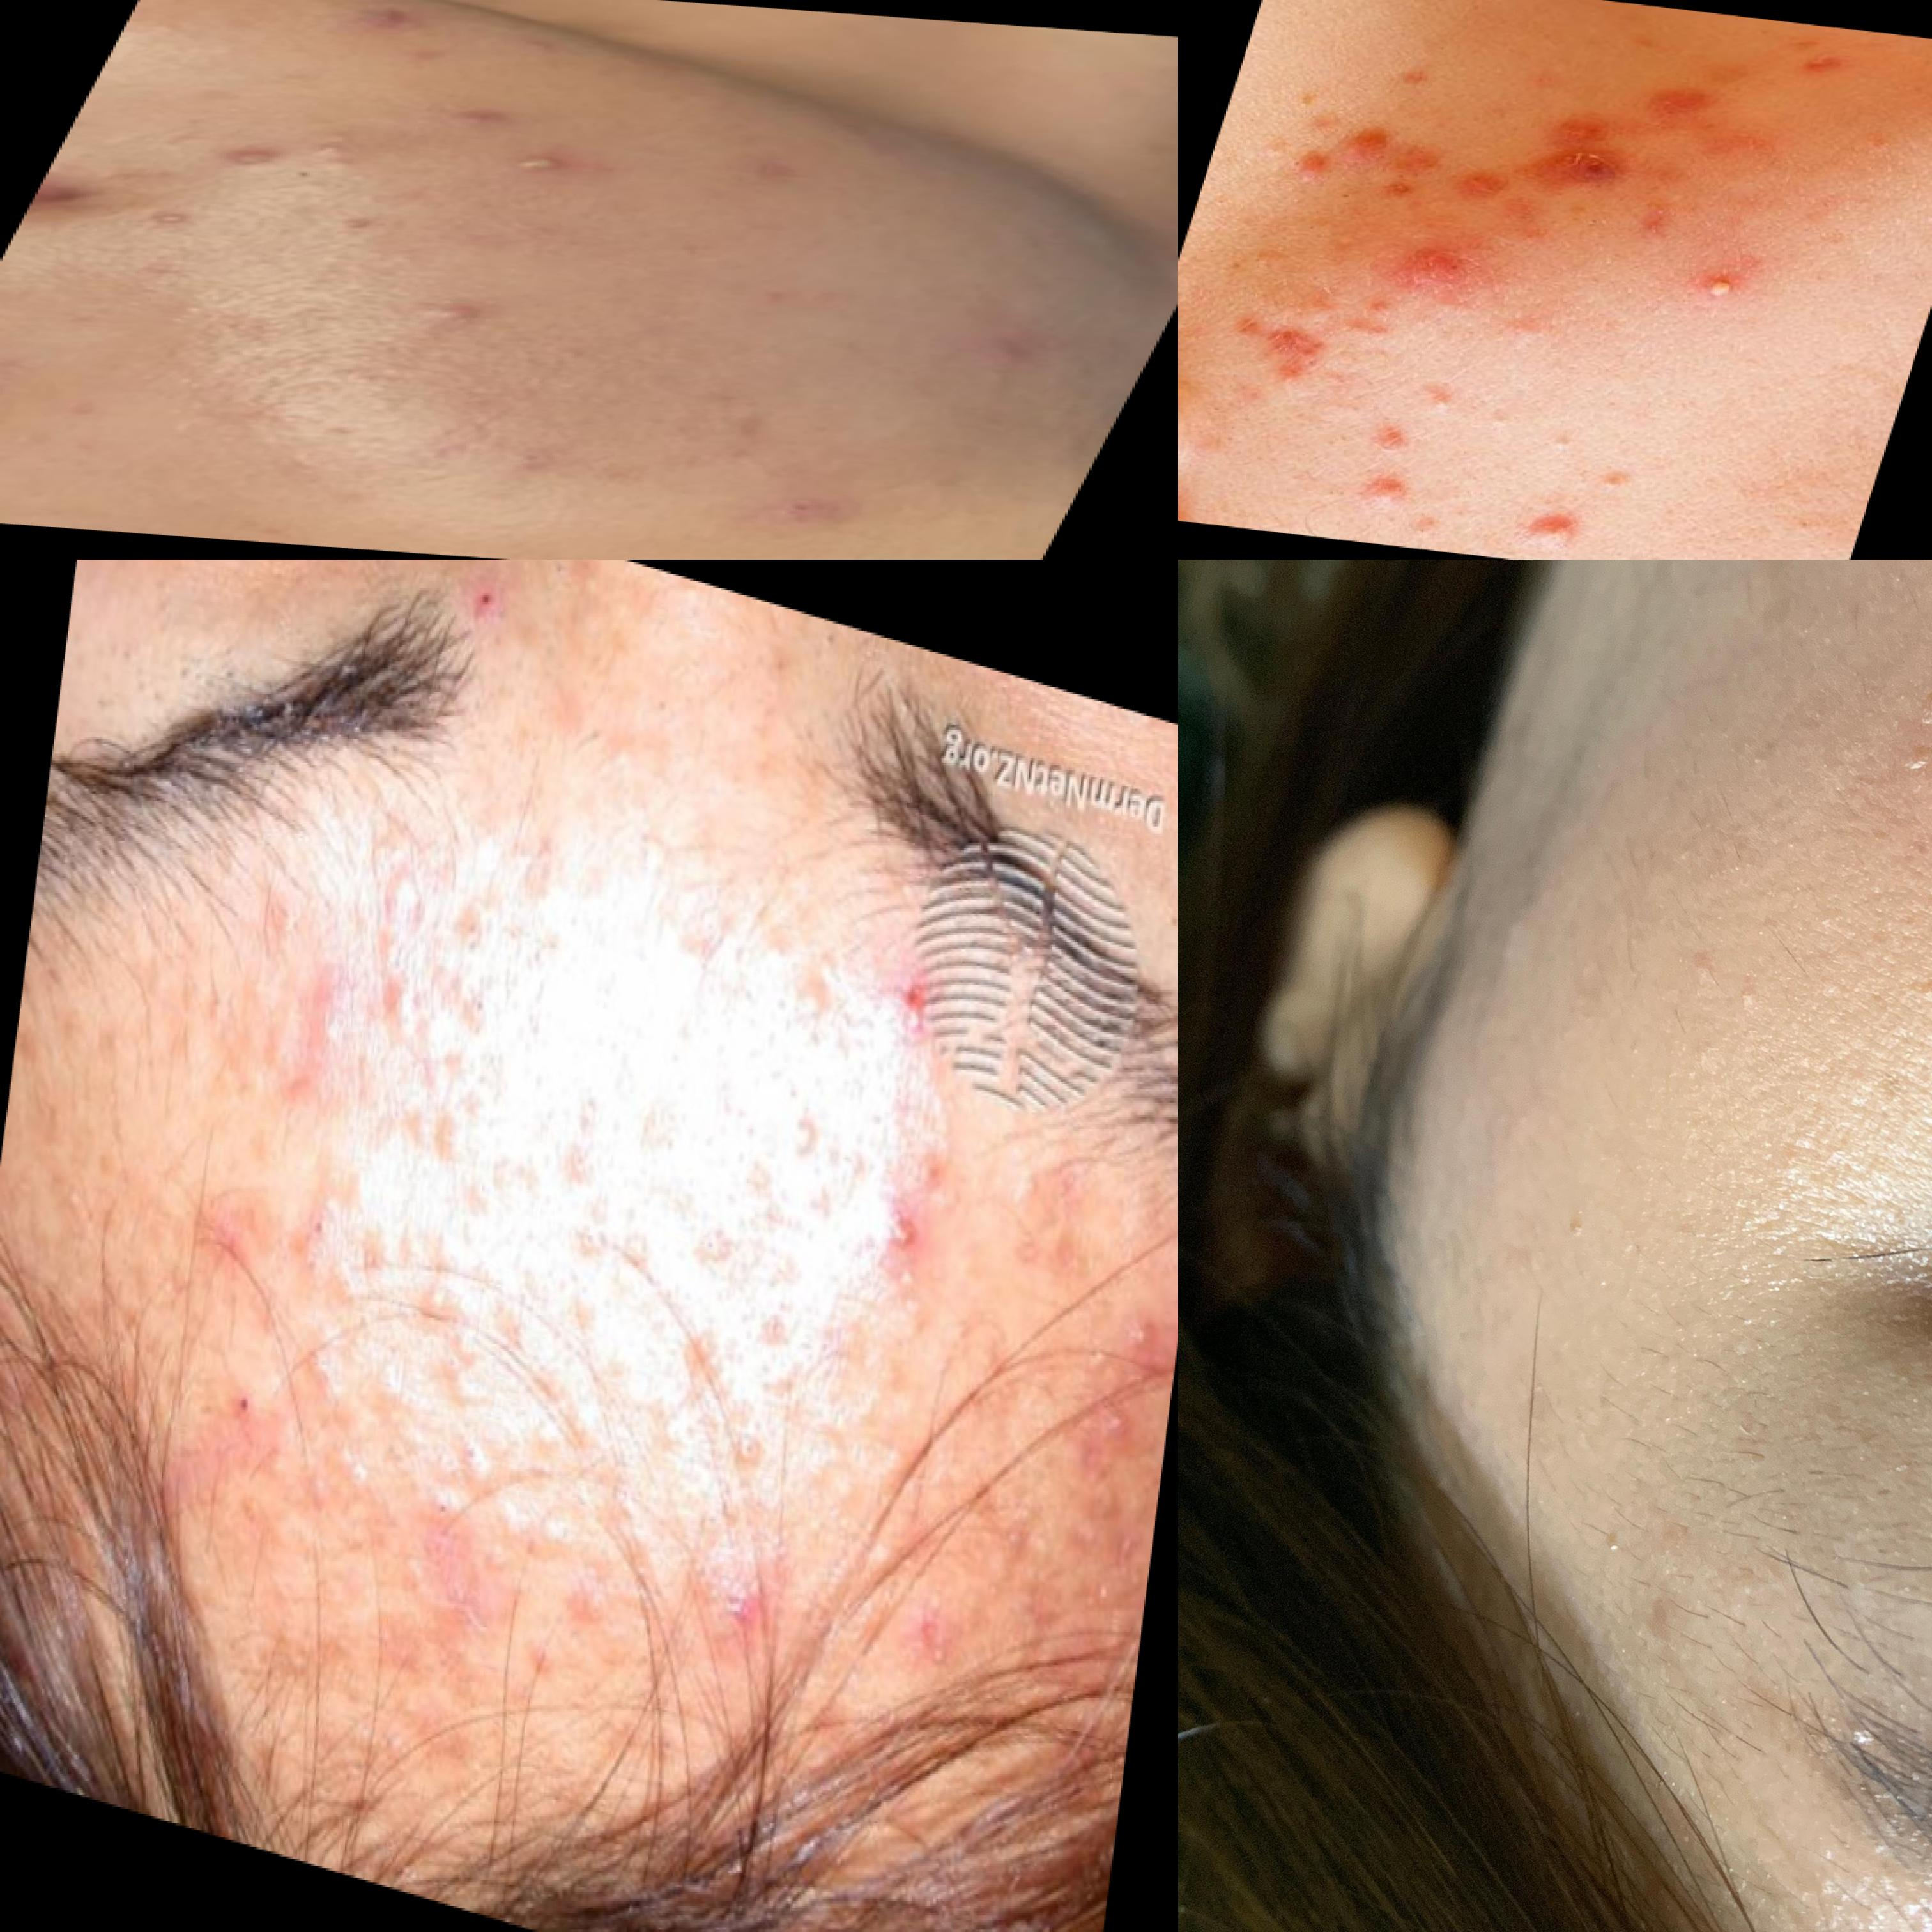blackhead: (669, 1192, 731, 1300), (720, 1384, 775, 1502), (281, 1185, 338, 1284), (568, 1177, 623, 1276), (557, 1079, 610, 1168), (442, 874, 490, 966), (1300, 474, 1369, 522), (453, 975, 499, 1046), (1382, 510, 1445, 550), (1592, 460, 1656, 501), (423, 1474, 462, 1530), (1479, 405, 1525, 437), (1322, 177, 1362, 211), (1288, 207, 1320, 242), (1309, 428, 1350, 449)
papular: (1302, 223, 1516, 310), (897, 301, 1088, 384), (1210, 310, 1359, 395), (1608, 64, 1757, 143), (159, 115, 295, 182), (1529, 136, 1656, 205), (706, 1560, 786, 1670), (1426, 157, 1543, 219), (904, 1587, 971, 1691), (858, 1173, 925, 1276), (403, 83, 547, 131), (294, 984, 357, 1086), (1325, 111, 1398, 165)
purulent: (465, 138, 610, 195), (396, 267, 515, 329), (1672, 265, 1755, 306), (1516, 499, 1580, 550)
syringoma: (1810, 1323, 1932, 1481), (1831, 642, 1932, 832)
whitehead: (978, 1143, 1095, 1293), (269, 117, 402, 186), (901, 1118, 973, 1240), (518, 1474, 600, 1580), (497, 1240, 577, 1341), (761, 1069, 828, 1185), (513, 1382, 584, 1488), (1108, 1269, 1168, 1371), (320, 1422, 382, 1513), (444, 1412, 501, 1507), (1083, 1378, 1143, 1467), (754, 1292, 814, 1371), (418, 1097, 472, 1182), (481, 1129, 534, 1214), (375, 971, 430, 1049), (612, 1215, 667, 1293), (407, 1263, 462, 1336), (559, 1286, 610, 1352), (559, 1330, 563, 1336)
